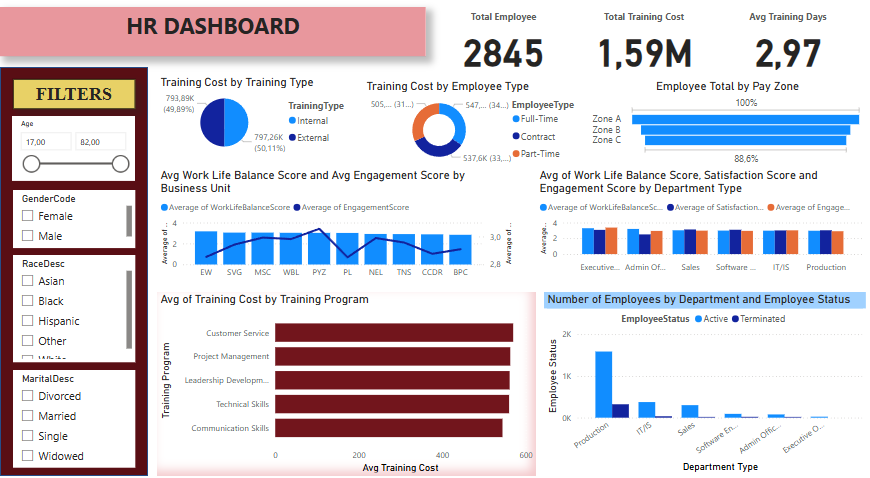

What the dashboard file says about the page in this screenshot:
{"tool":"powerbi","page":{"name":"Page 1","canvas":[1280,720],"ordinal":0},"visuals":[{"type":"clusteredColumnChart","title":"Number of Employees by Department and Employee Status","fields":{"Category":["cleaned.DepartmentType"],"Y":["CountNonNull(cleaned.Employee ID)"],"Series":["cleaned.EmployeeStatus"]},"box":[796.1,440.5,471.2,269.3],"z":0},{"type":"clusteredBarChart","title":"Avg of Training Cost by Training Program ","fields":{"Category":["cleaned.TrainingProgramName"],"Y":["Avg(cleaned.TrainingCost)"]},"box":[229.8,440.5,554.6,269.3],"z":1000},{"type":"card","fields":{"Values":["Avg(cleaned.TrainingDurationdays)"]},"box":[1025.9,23.4,254.6,99.5],"z":2000},{"type":"card","fields":{"Values":["CountNonNull(cleaned.Employee ID)"]},"box":[623.4,23.4,226.8,99.5],"z":3000},{"type":"clusteredColumnChart","title":"Avg of Work Life Balance Score, Satisfaction Score and Engagement Score by Department Type","fields":{"Y":["Avg(cleaned.WorkLifeBalanceScore)","Avg(cleaned.SatisfactionScore)","Avg(cleaned.EngagementScore)"],"Category":["cleaned.DepartmentType"]},"box":[784.4,259,482.9,161],"z":4000},{"type":"card","fields":{"Values":["Sum(cleaned.TrainingCost)"]},"box":[818,23.4,248.8,99.5],"z":5000},{"type":"textbox","box":[0,23.4,623.4,71.7],"z":6000},{"type":"shape","box":[0,111.2,216.6,598.5],"z":7000},{"type":"slicer","fields":{"Values":["cleaned.GenderCode"]},"box":[19,291.2,178.5,84.9],"z":8000},{"type":"slicer","fields":{"Values":["cleaned.MaritalDesc"]},"box":[19,554.6,178.5,143.4],"z":9000},{"type":"textbox","box":[19,128.8,178.5,43.9],"z":10000},{"type":"lineStackedColumnComboChart","title":"Avg Work Life Balance Score and Avg Engagement Score by Business Unit","fields":{"Y":["Avg(cleaned.WorkLifeBalanceScore)"],"Y2":["Avg(cleaned.EngagementScore)"],"Category":["cleaned.BusinessUnit"]},"box":[229.8,259,525.4,171.2],"z":11000},{"type":"slicer","fields":{"Values":["cleaned.RaceDesc"]},"box":[19,386.3,178.5,156.6],"z":12000},{"type":"pieChart","title":"Training Cost by Training Type","fields":{"Category":["cleaned.TrainingType"],"Y":["Sum(cleaned.TrainingCost)"]},"box":[229.8,122.9,294.1,120],"z":13000},{"type":"donutChart","title":"Training Cost by Employee Type","fields":{"Category":["cleaned.EmployeeType"],"Y":["Sum(cleaned.TrainingCost)"]},"box":[531.2,128.8,330.7,130.2],"z":14000},{"type":"funnel","title":"Employee Total by Pay Zone","fields":{"Category":["cleaned.PayZone"],"Y":["CountNonNull(cleaned.Employee ID)"]},"box":[862,128.8,405.4,130.2],"z":15000},{"type":"slicer","fields":{"Values":["cleaned.Age"]},"box":[17.6,182.9,180,95.1],"z":16000}]}

Visuals, with their boxes in screenshot pixels (x1, y1, x2, y2), scaled from the page's 1280x720 canvas onto the 870x478 screenshot:
"Number of Employees by Department and Employee Status" clusteredColumnChart: bbox=(541, 292, 861, 471)
"Avg of Training Cost by Training Program " clusteredBarChart: bbox=(156, 292, 533, 471)
card - Avg(cleaned.TrainingDurationdays): bbox=(697, 16, 869, 82)
card - CountNonNull(cleaned.Employee ID): bbox=(424, 16, 578, 82)
"Avg of Work Life Balance Score, Satisfaction Score and Engagement Score by Department Type" clusteredColumnChart: bbox=(533, 172, 861, 279)
card - Sum(cleaned.TrainingCost): bbox=(556, 16, 725, 82)
textbox: bbox=(0, 16, 424, 63)
shape: bbox=(0, 74, 147, 471)
slicer - cleaned.GenderCode: bbox=(13, 193, 134, 250)
slicer - cleaned.MaritalDesc: bbox=(13, 368, 134, 463)
textbox: bbox=(13, 86, 134, 115)
"Avg Work Life Balance Score and Avg Engagement Score by Business Unit" lineStackedColumnComboChart: bbox=(156, 172, 513, 286)
slicer - cleaned.RaceDesc: bbox=(13, 256, 134, 360)
"Training Cost by Training Type" pieChart: bbox=(156, 82, 356, 161)
"Training Cost by Employee Type" donutChart: bbox=(361, 86, 586, 172)
"Employee Total by Pay Zone" funnel: bbox=(586, 86, 861, 172)
slicer - cleaned.Age: bbox=(12, 121, 134, 185)
